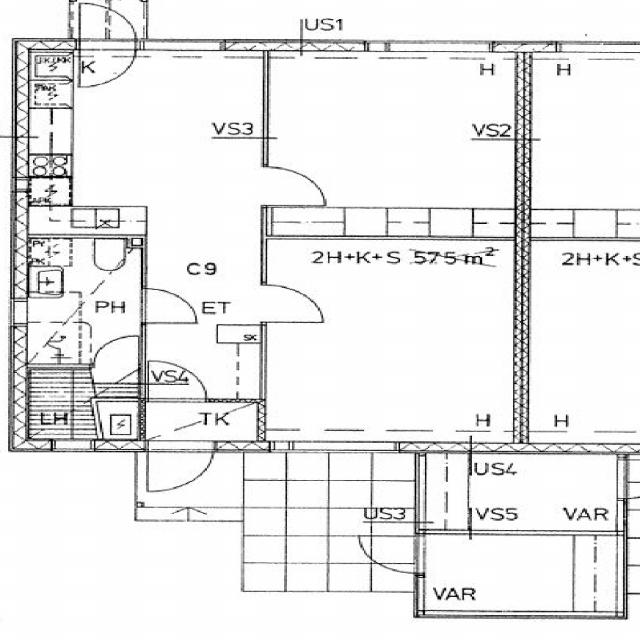door: (148, 442, 214, 496), (79, 38, 135, 86), (79, 1, 135, 49), (357, 536, 425, 573), (259, 285, 322, 323), (150, 362, 206, 402), (140, 288, 200, 323), (94, 336, 137, 368)
